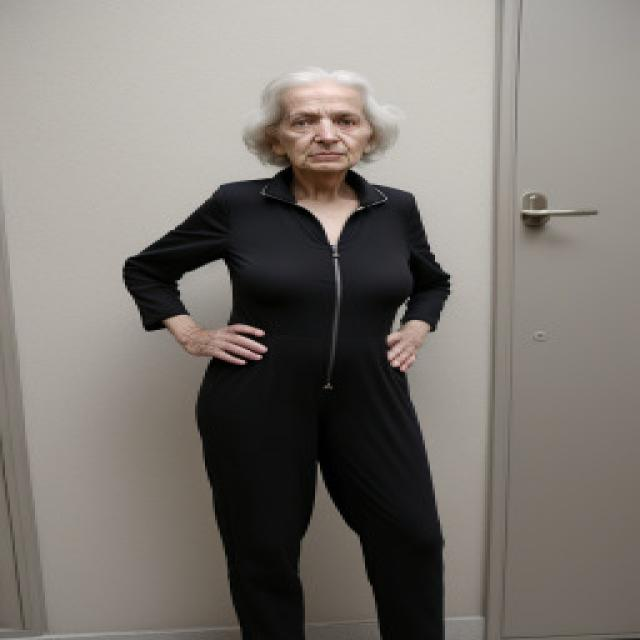Ai human 2: (116, 61, 520, 640)
